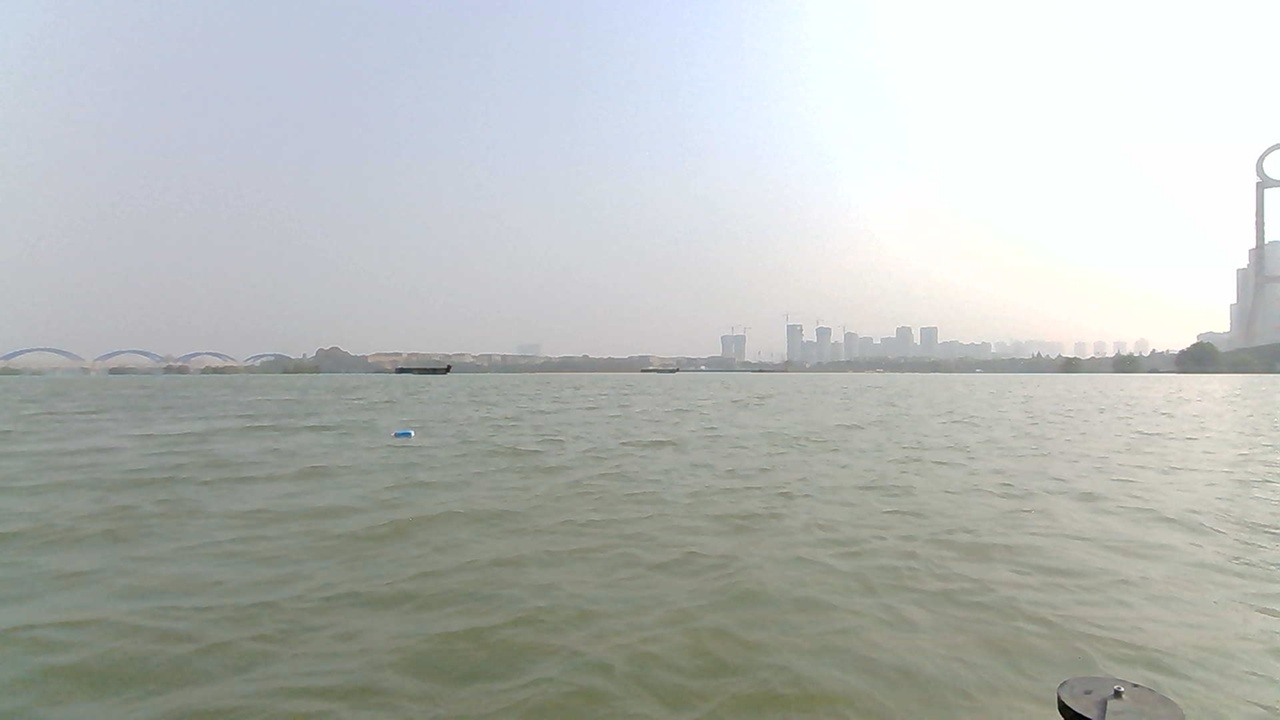bottle: (390, 427, 420, 442)
